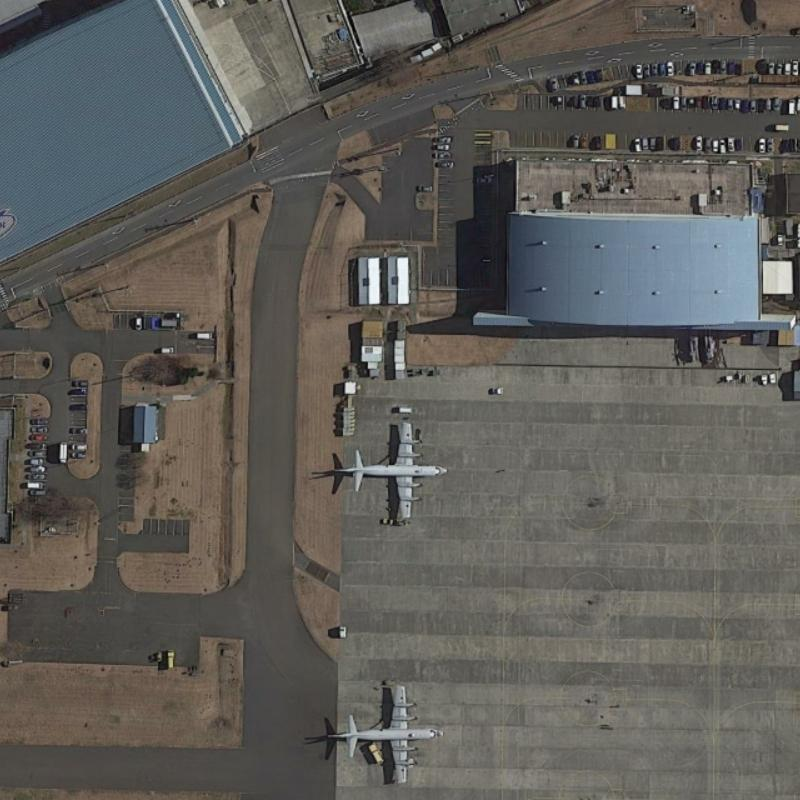A9: (328, 409, 455, 526), (319, 671, 443, 789)
